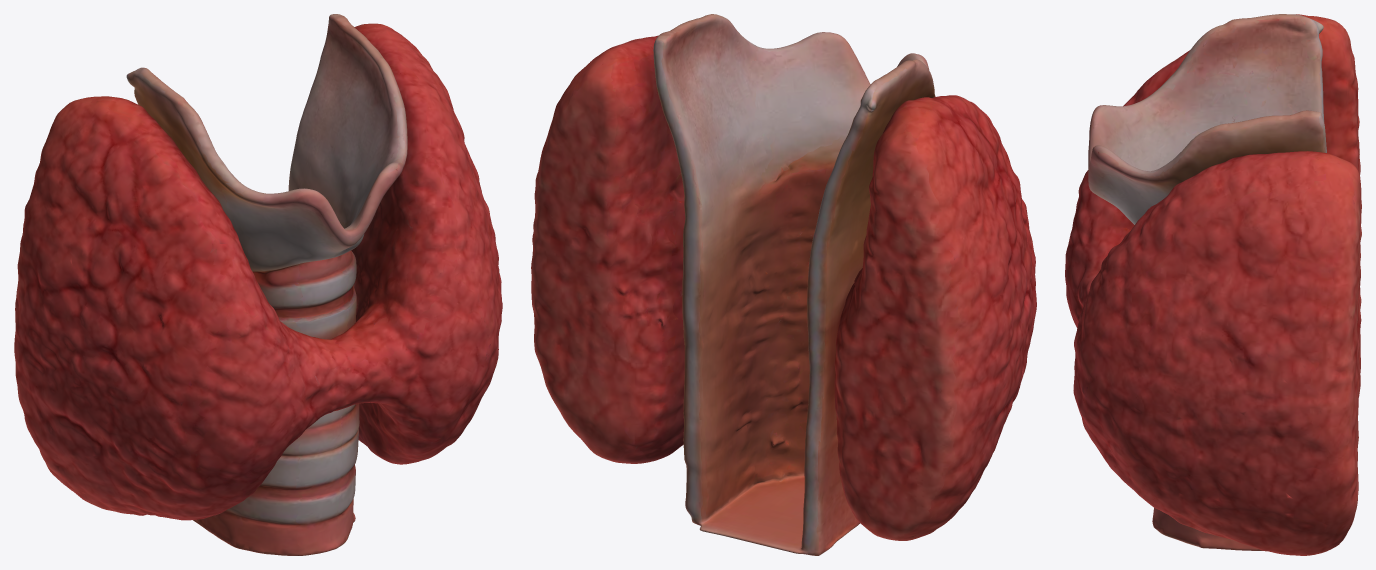
The model's file is Tiroides.glb.
3 views of the same model, side by side, from view 1: azimuth 30°, elevation 25°; view 2: azimuth 150°, elevation 25°; view 3: azimuth 270°, elevation 25° (orthographic). The views are drawn at different scales.
Parts seen in each view (by area): view 1: geometry_0; view 2: geometry_0; view 3: geometry_0.
Boxes of the visible parts, box(x1,y1,x2,y2) form: geometry_0: box(14, 14, 502, 555); geometry_0: box(531, 14, 1036, 555); geometry_0: box(1065, 14, 1361, 555).
Size of the model in its own units: 0.9938 by 1 by 0.5898.
Materials: 1 (1 with a texture image).
